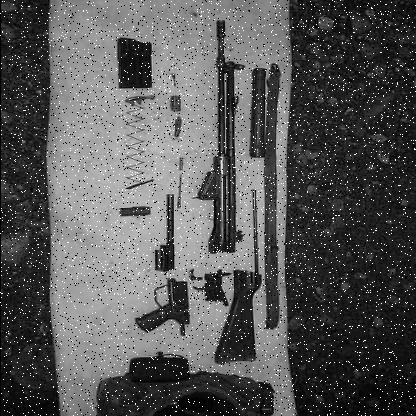rifle: (193, 10, 281, 375)
